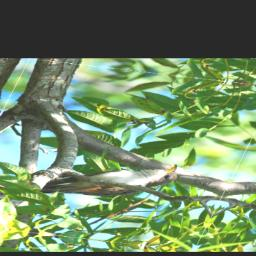Cuckoo: (40, 151, 184, 207)
